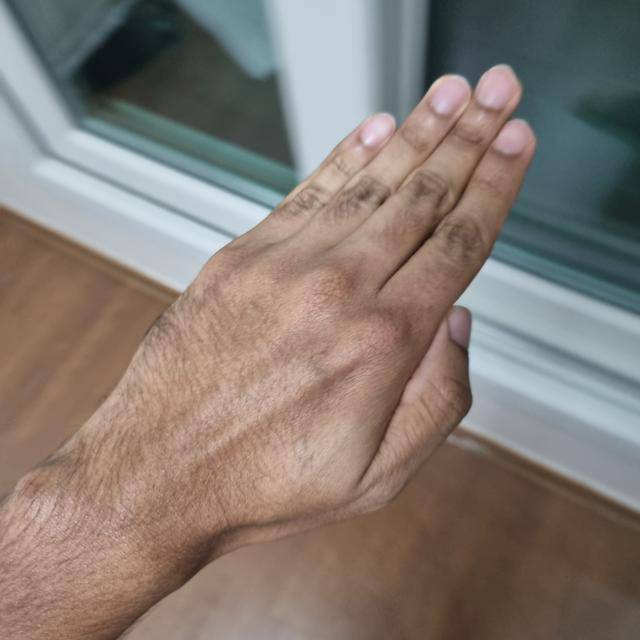Paper: (100, 74, 536, 533)
